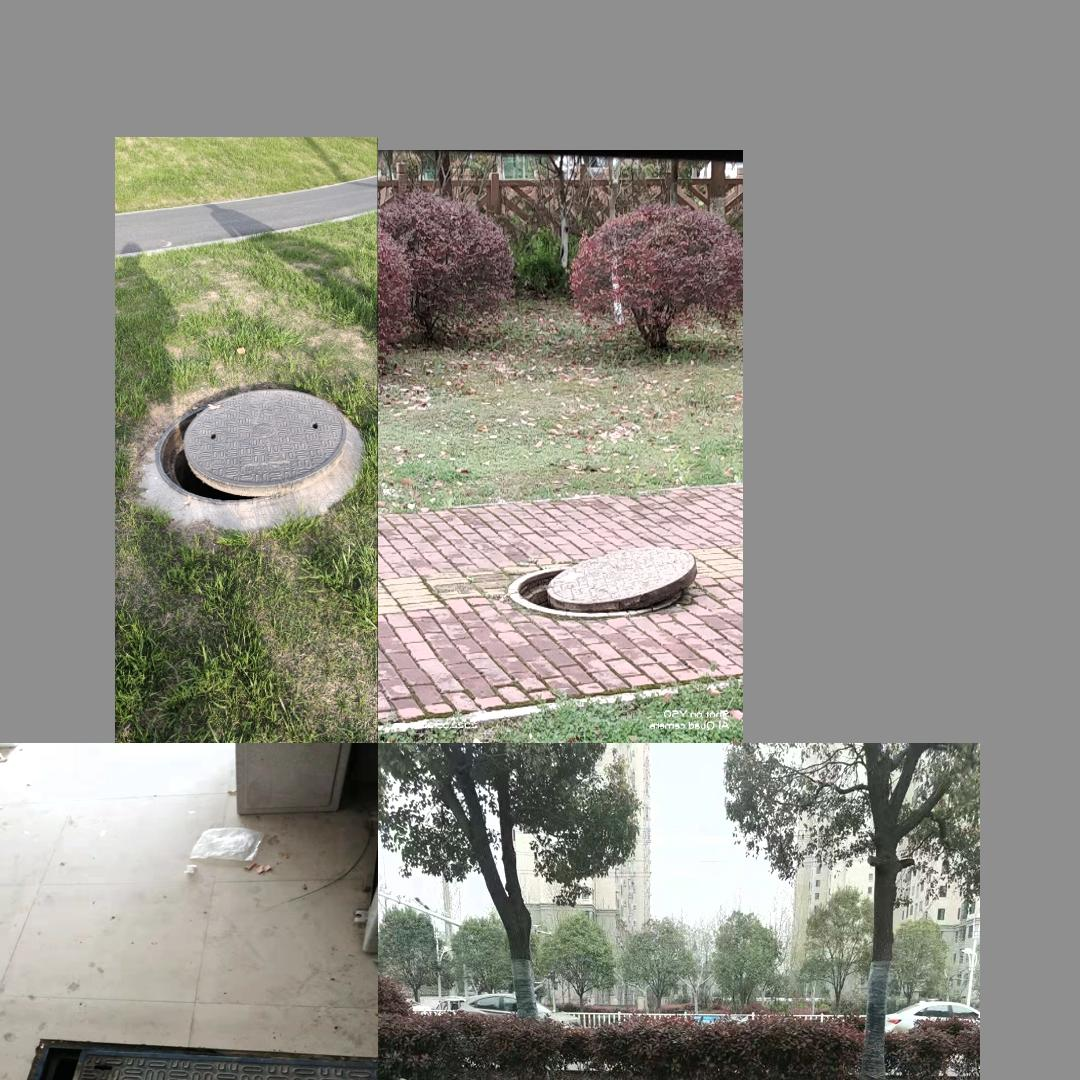uncovered: (153, 386, 349, 506), (496, 524, 708, 616), (0, 1038, 373, 1080)
